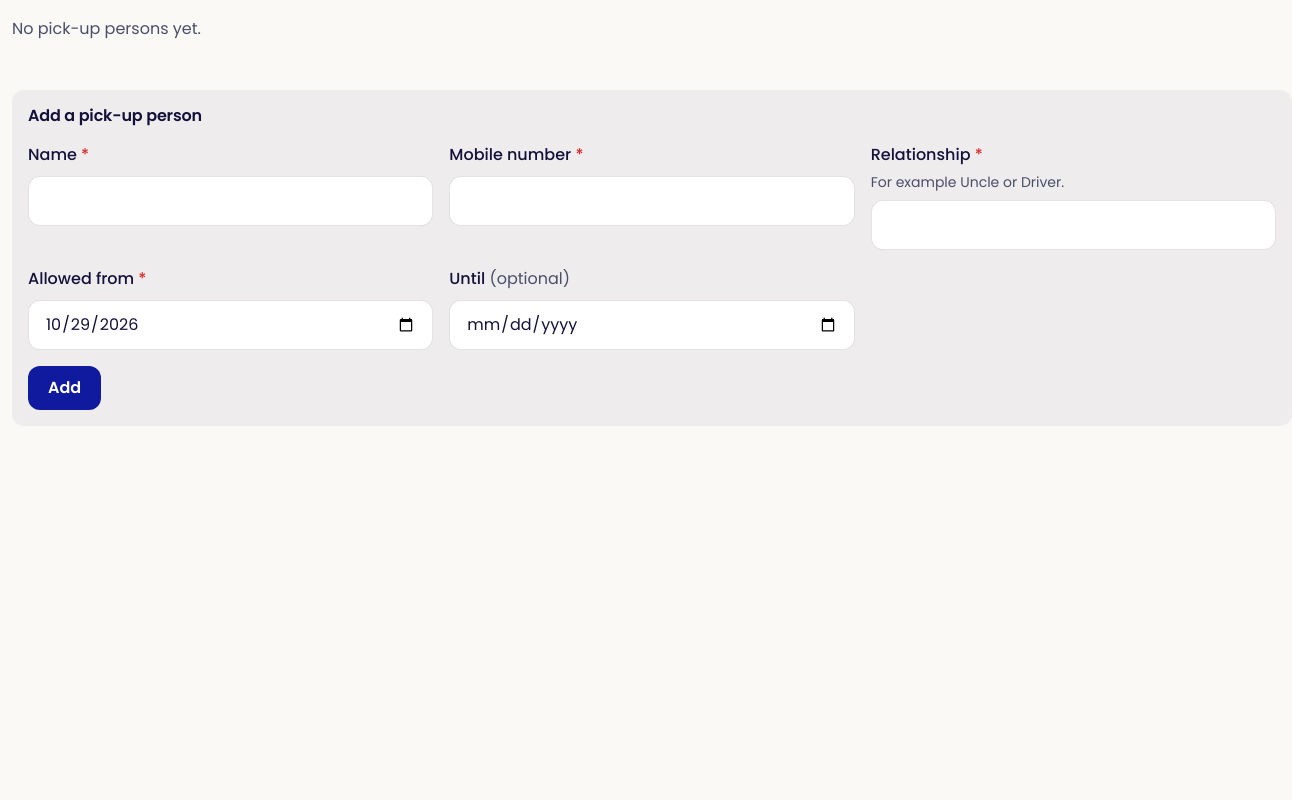
PickupsTab › adds a pick-up person and ends one
Type "Uncle Kofi" into the field labelled "Name *" at (231,201), box [28,176,433,226]
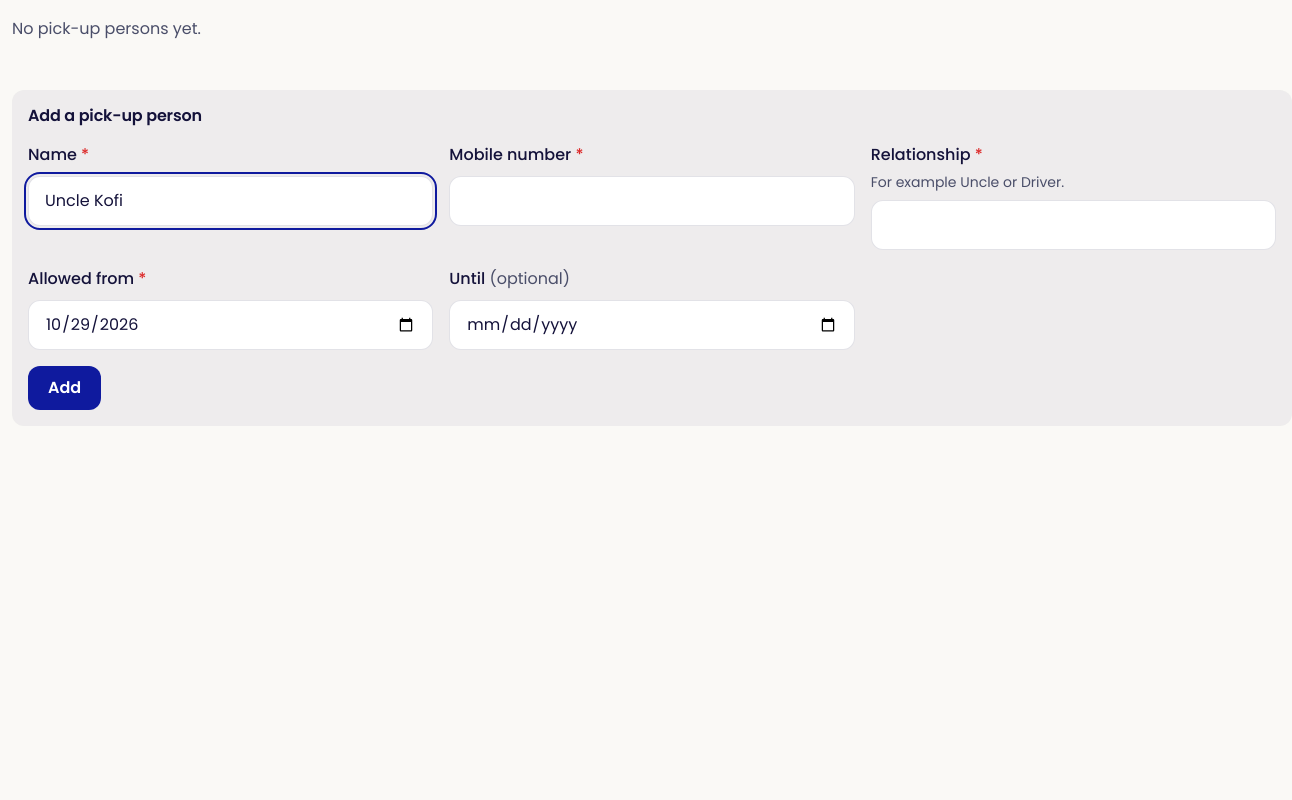
Type "024 777 0001" into the field labelled "Mobile number *" at (652,201), box [449,176,855,226]
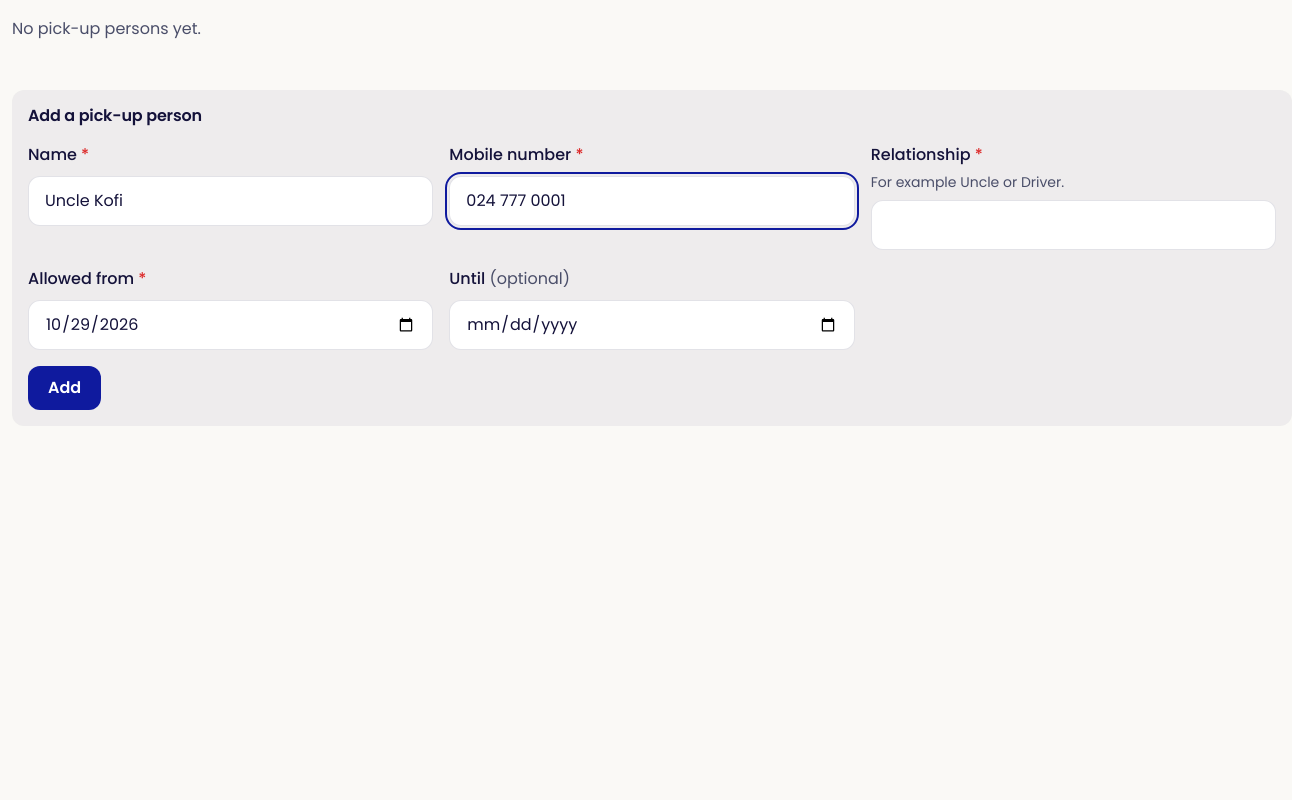
Type "Uncle" into the field labelled "Relationship *" at (1073,225), box [871,200,1276,250]
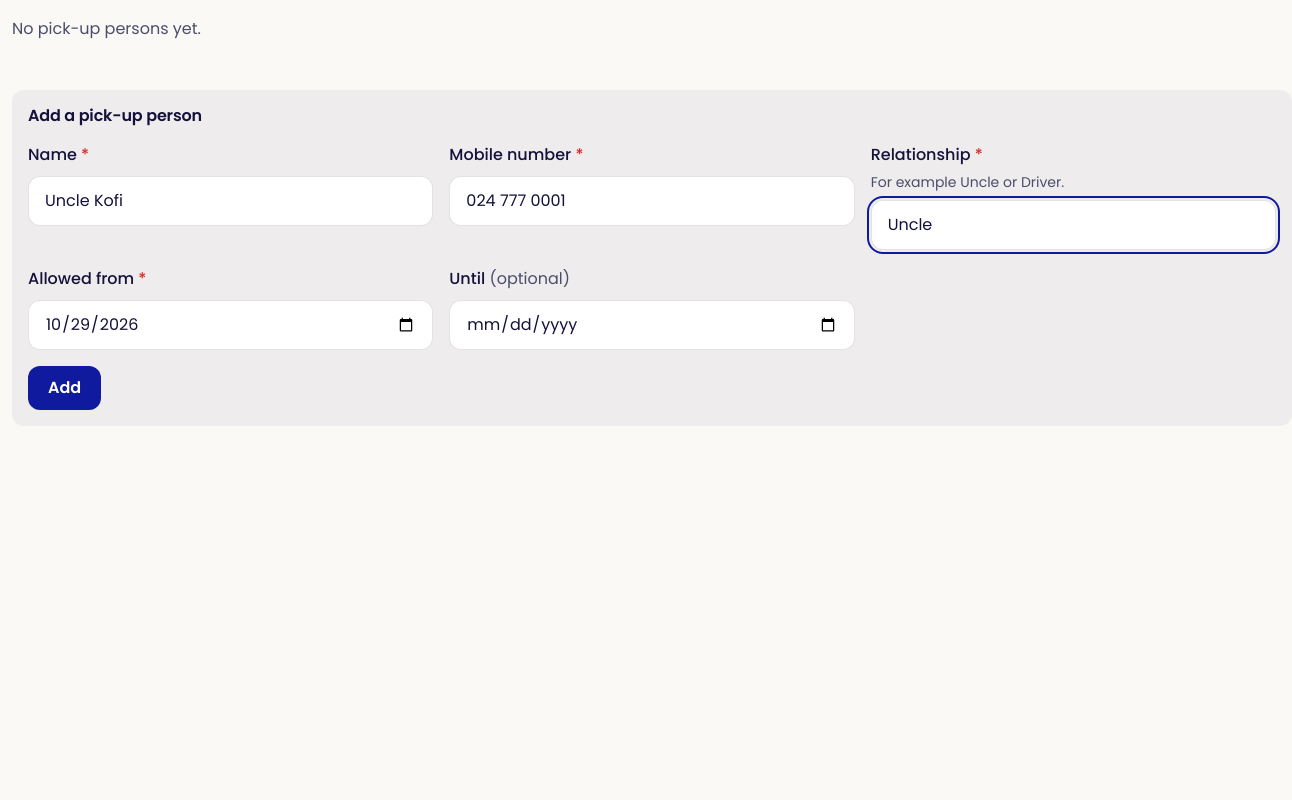
Click the button "Add" at (65,388), box [28,366,101,410]
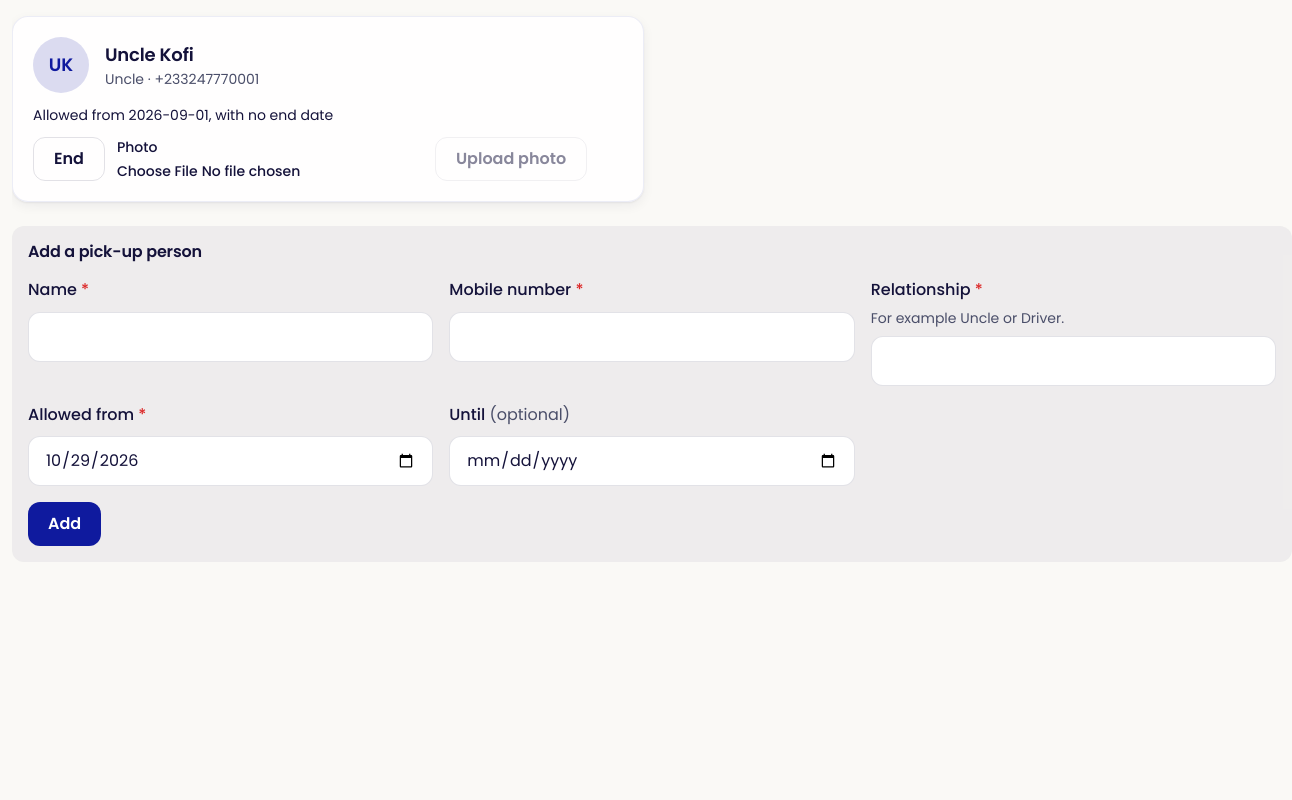
Click the button "End" at (69,159), box [33,137,105,181]
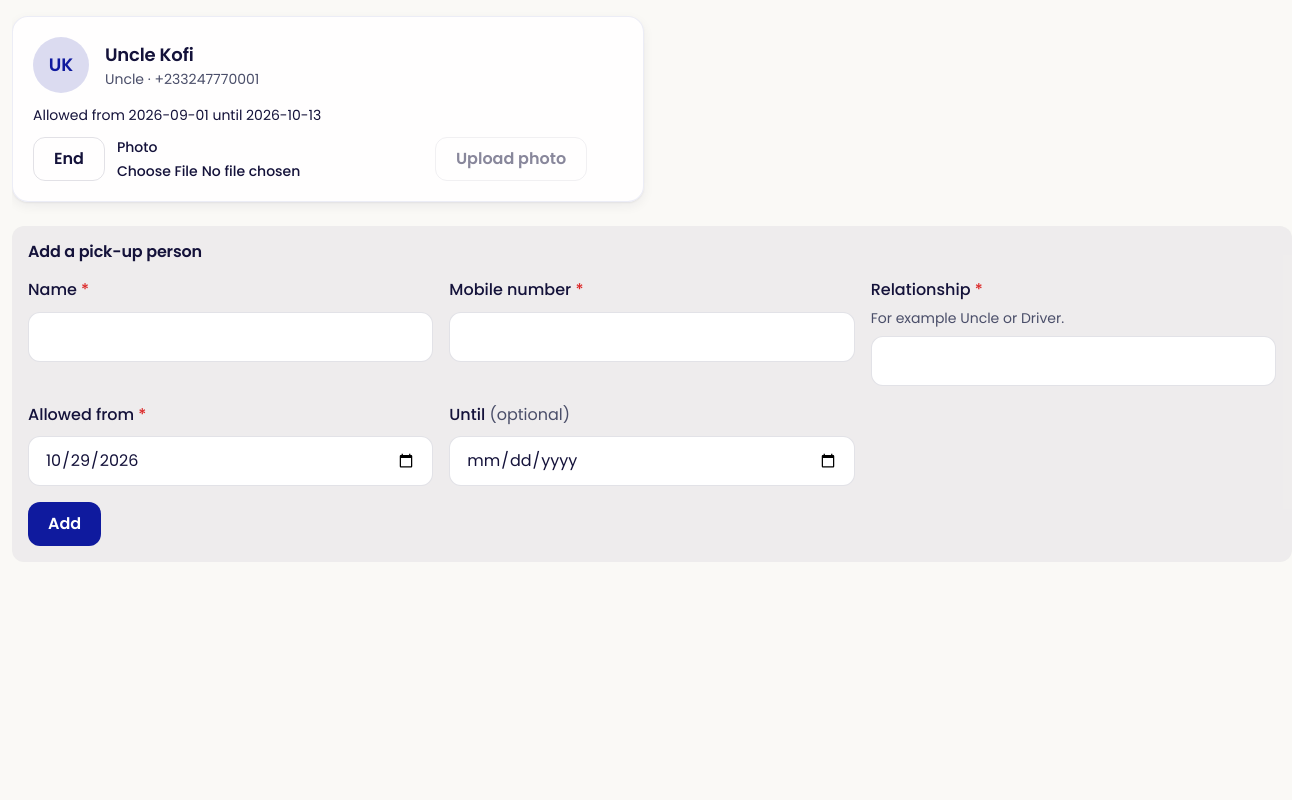
Result: the text "Allowed from 2026-09-01 until 2026-10-13" is shown at [33,105,321,125]
